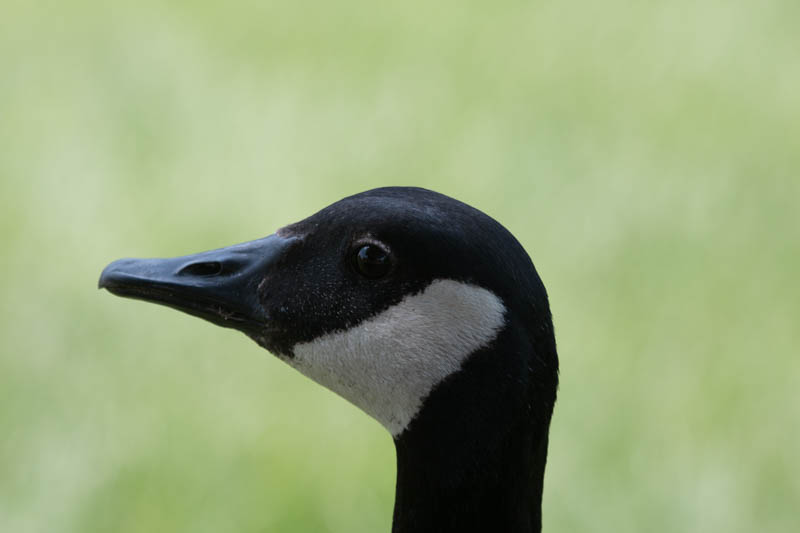goose-head: (98, 186, 559, 440)
